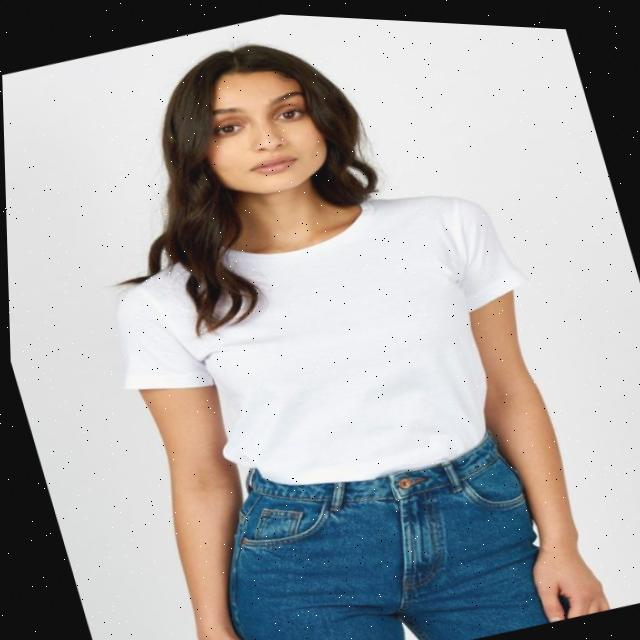Upper-Body: (115, 190, 529, 480)
